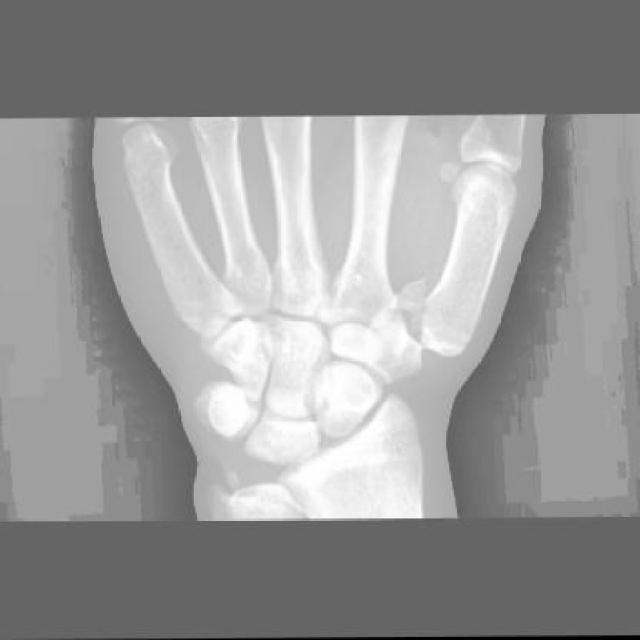Fracture: (386, 276, 444, 338)
